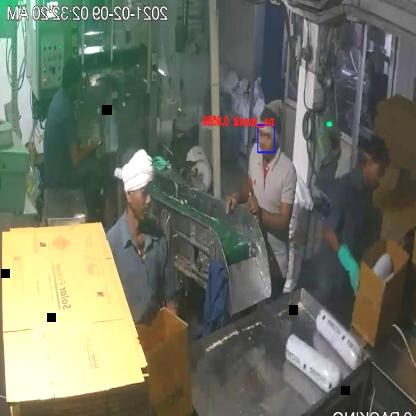glove: (335, 240, 365, 301)
no_glove: (244, 190, 297, 236), (219, 166, 256, 226), (64, 127, 99, 175)
